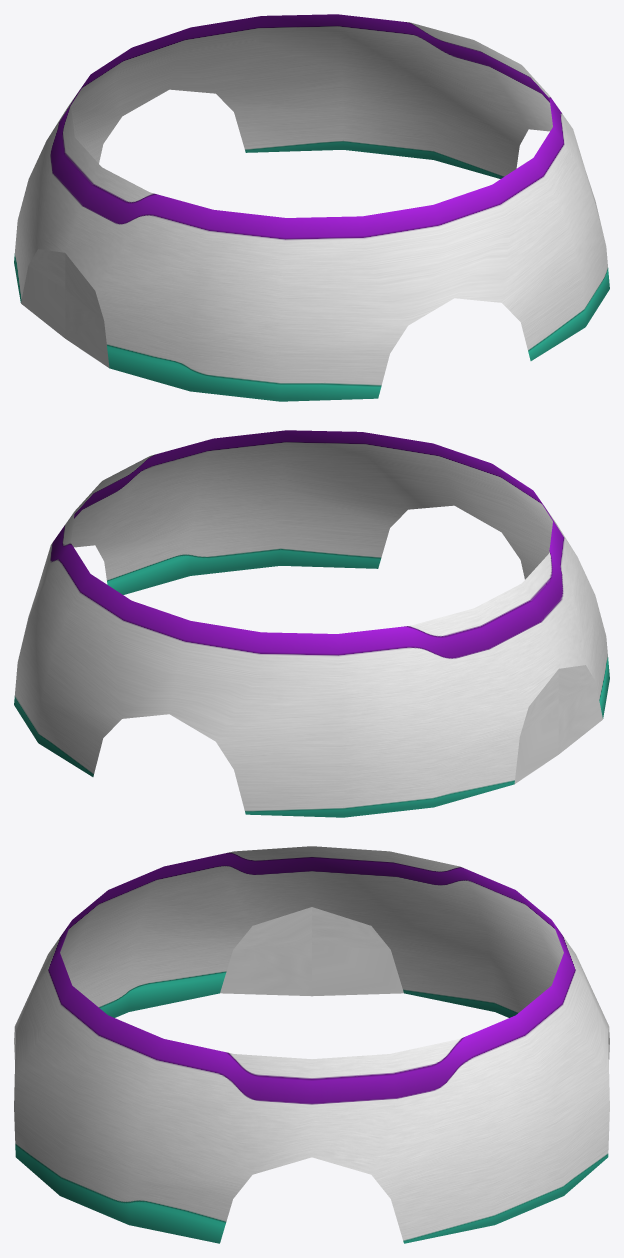
Rendered from Base3Opening.fbx.
The picture shows the model from 3 angles, top to bottom: view 1: azimuth 30°, elevation 25°; view 2: azimuth 150°, elevation 25°; view 3: azimuth 270°, elevation 25°; orthographic projection. The views are drawn at different scales.
Parts seen in each view (by area): view 1: pSphere18; view 2: pSphere18; view 3: pSphere18.
Boxes of the visible parts, x1=… form: pSphere18: x1=14, y1=14, x2=609, y2=401; pSphere18: x1=14, y1=430, x2=609, y2=817; pSphere18: x1=14, y1=846, x2=609, y2=1243.
Size of the model in its own units: 12.65 by 3.97 by 12.72.
